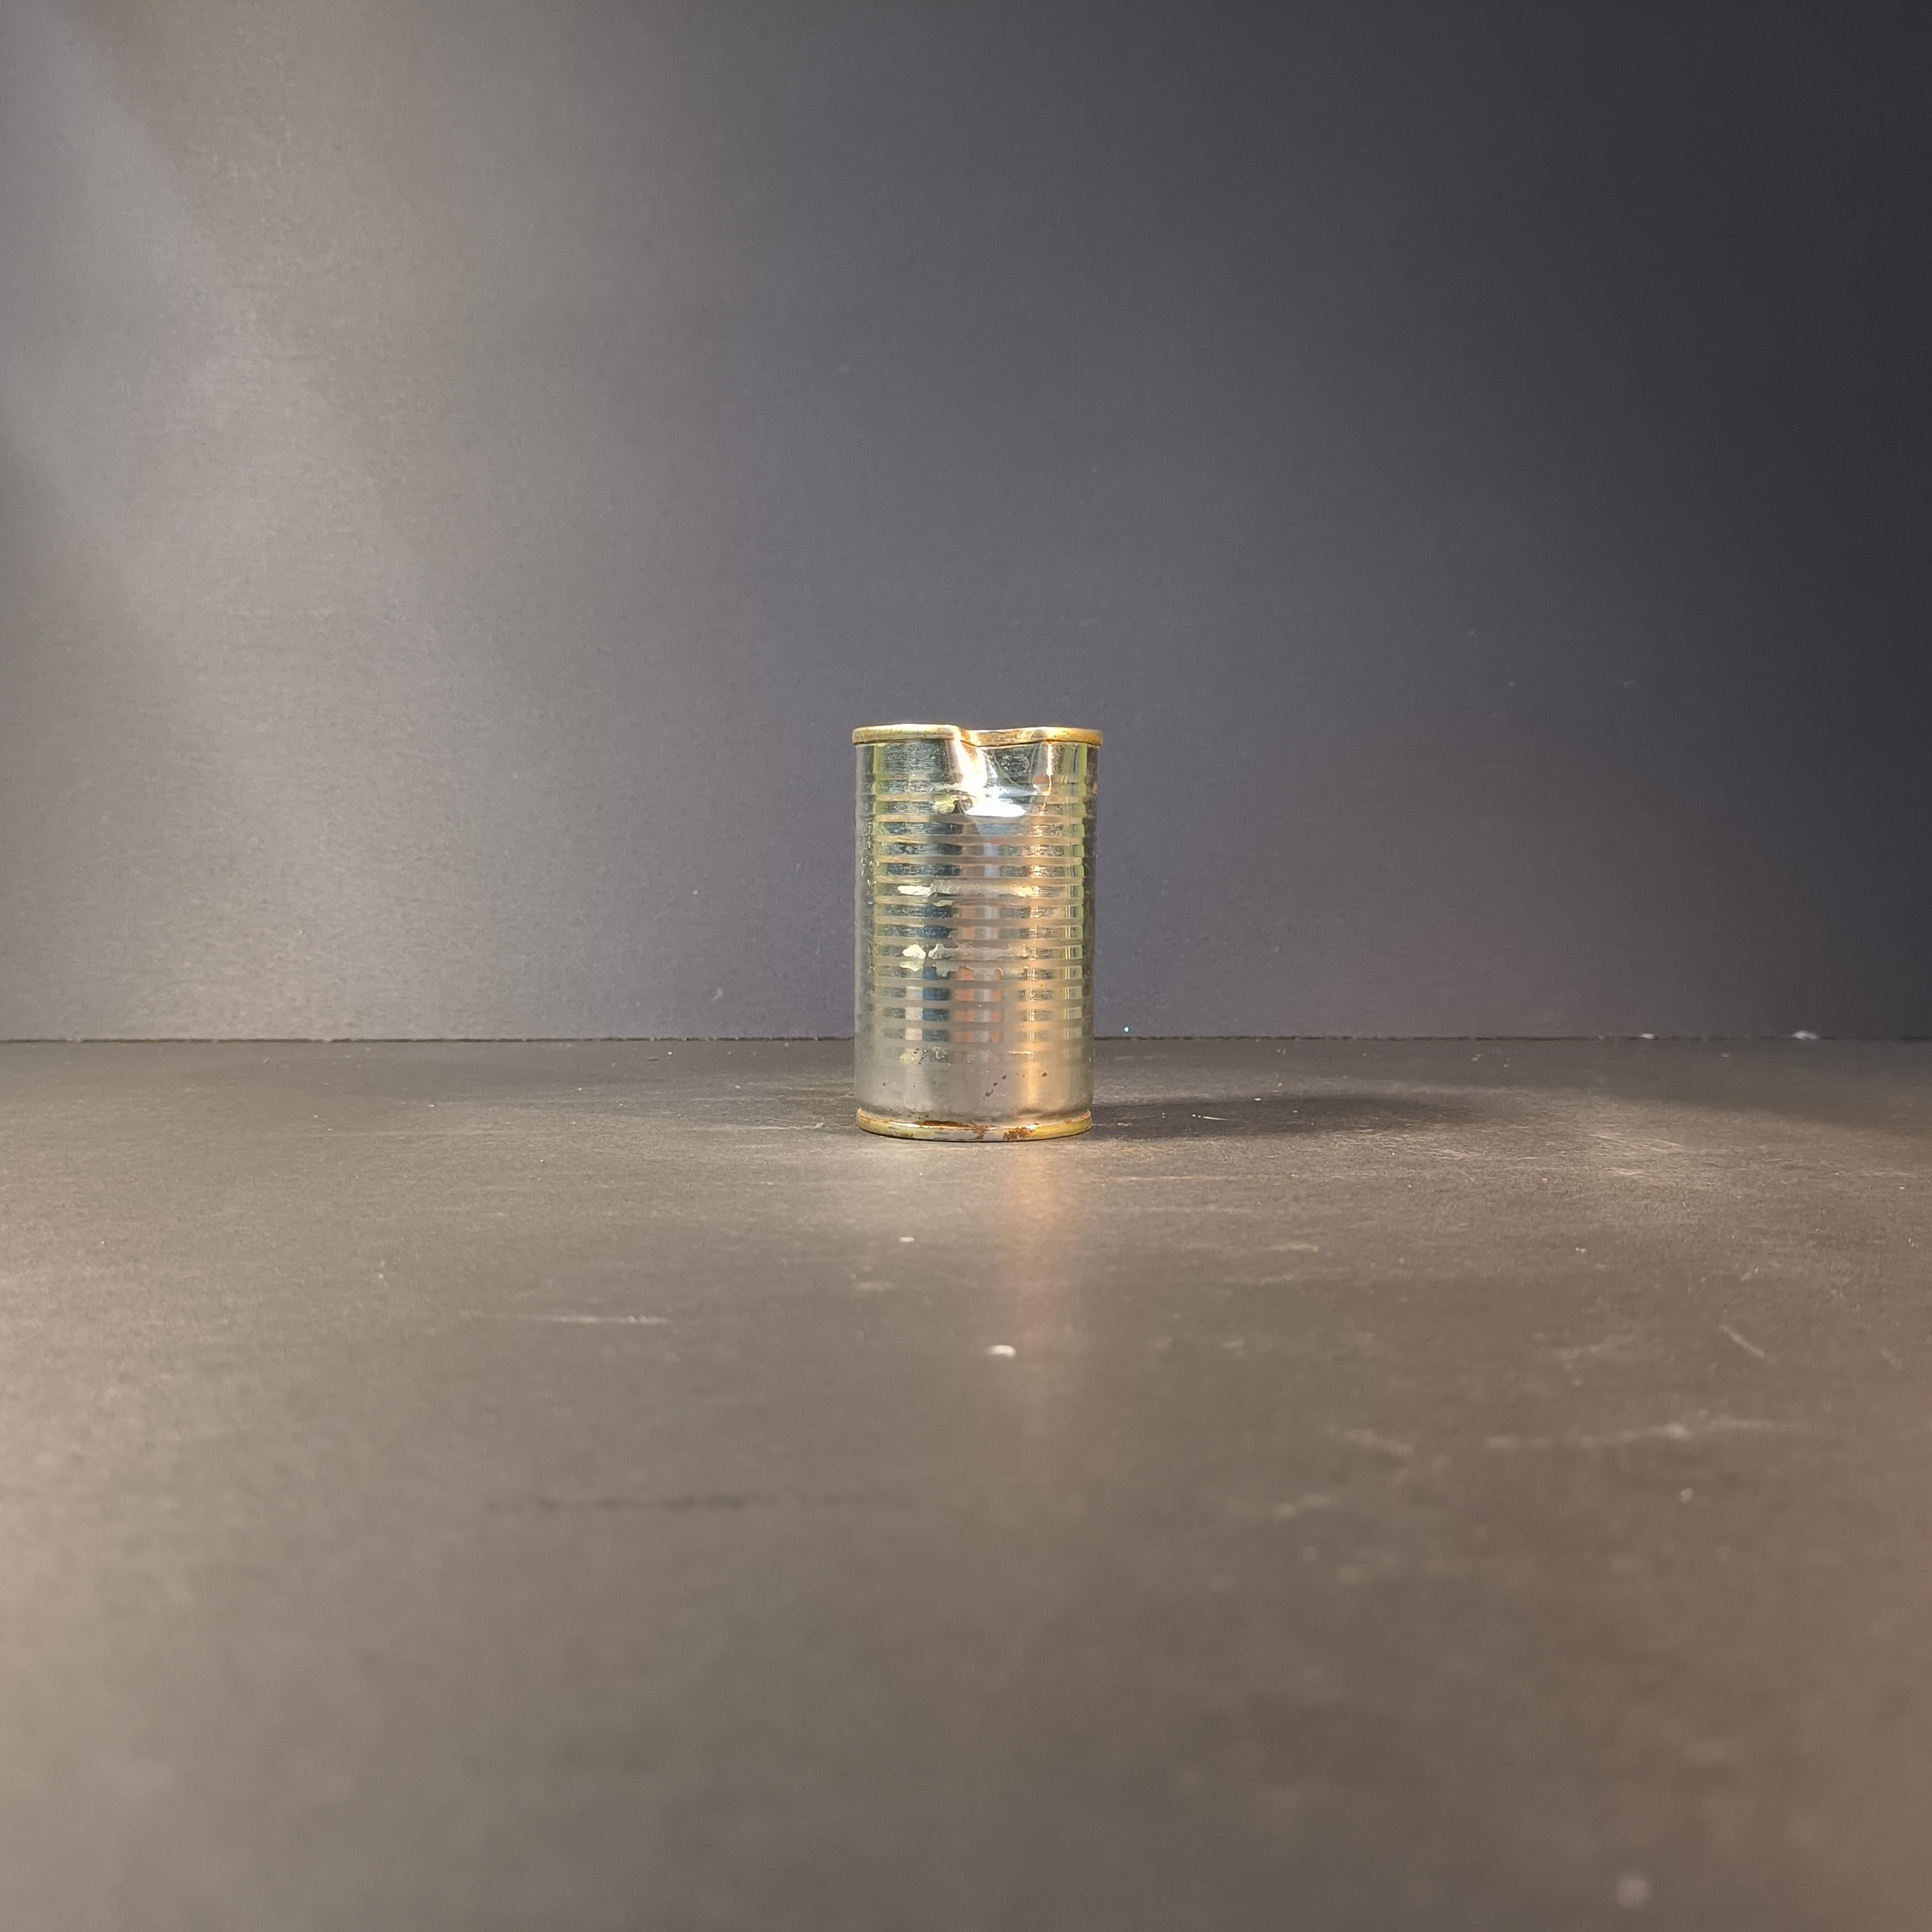Dented: (826, 701, 1118, 1152)
